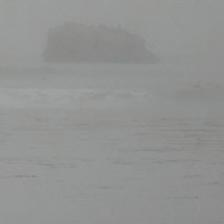surfer: (192, 82, 201, 88)
